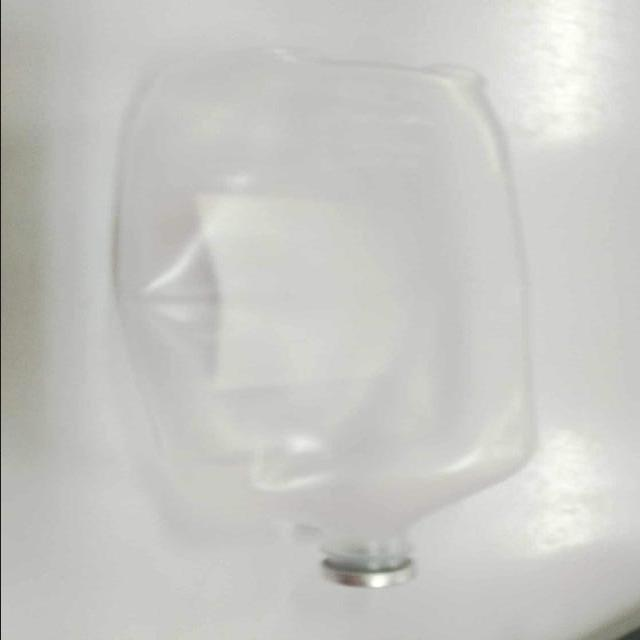Sharps: (113, 49, 540, 589)
